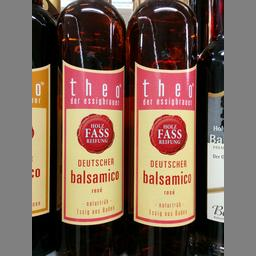vinegar: (124, 0, 202, 255), (54, 0, 127, 255)
